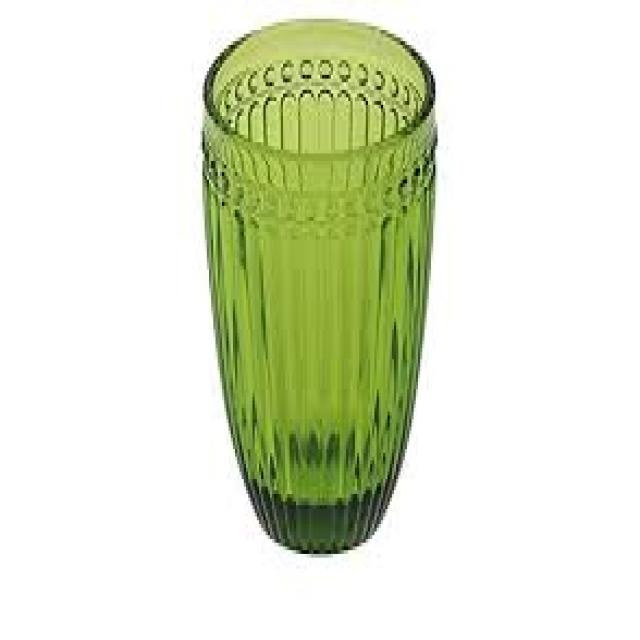glass: (201, 15, 436, 550)
